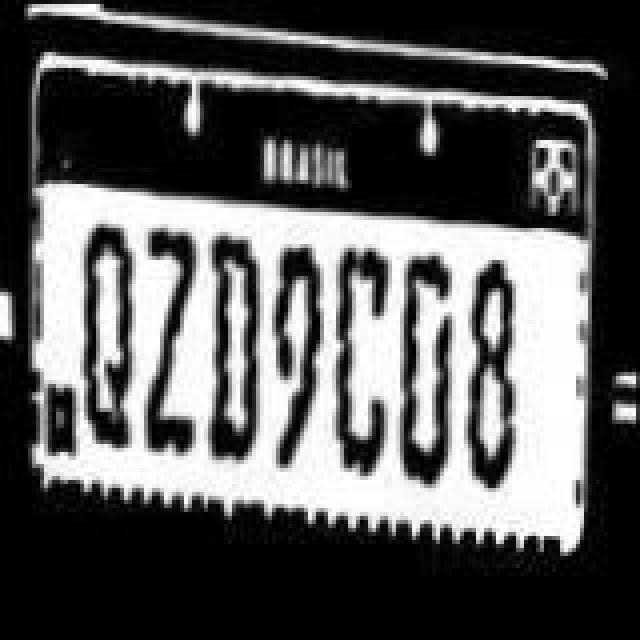8: (466, 252, 526, 496)
9: (270, 228, 326, 480)
C: (332, 232, 392, 492)
D: (392, 242, 452, 502), (204, 230, 264, 466)
Q: (76, 210, 136, 454)
Z: (138, 222, 194, 470)
